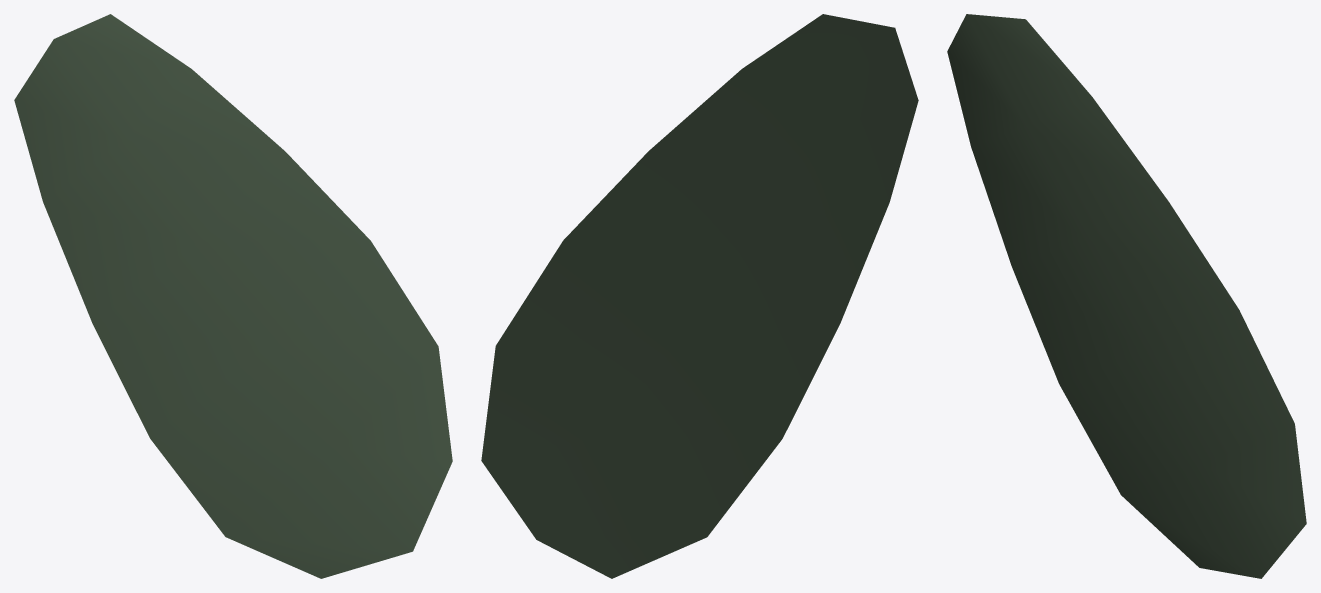
The model's file is duck_feather_flight_tertiary_025.obj.
The picture shows the model from 3 angles, left to right: view 1: azimuth 30°, elevation 25°; view 2: azimuth 150°, elevation 25°; view 3: azimuth 330°, elevation 25°; orthographic projection. The views are drawn at different scales.
Parts seen in each view (by area): view 1: feather_flight_tertiary_025; view 2: feather_flight_tertiary_025; view 3: feather_flight_tertiary_025.
Part boxes in pixels (box(x1,y1,x2,y2)): feather_flight_tertiary_025: box(14, 14, 452, 578); feather_flight_tertiary_025: box(481, 14, 918, 578); feather_flight_tertiary_025: box(947, 14, 1306, 578).
Bounding box in the file's own units: 0.0203 × 0.0273 × 0.000663.
